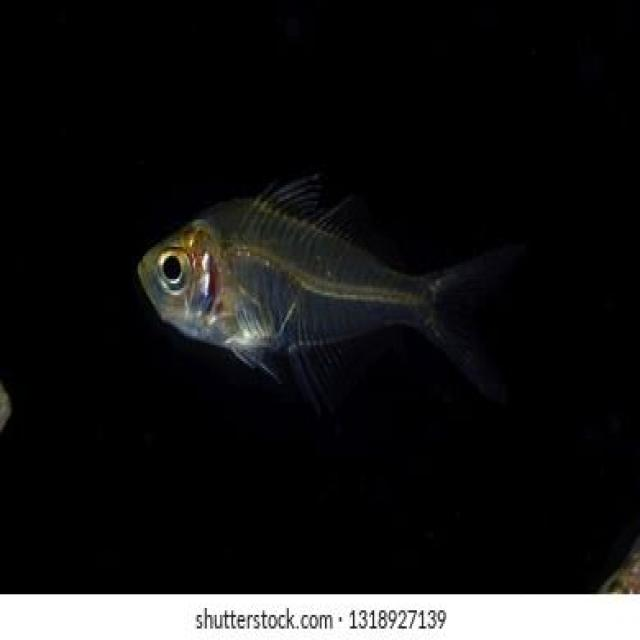Glass-Perchlet: (122, 103, 519, 426)
